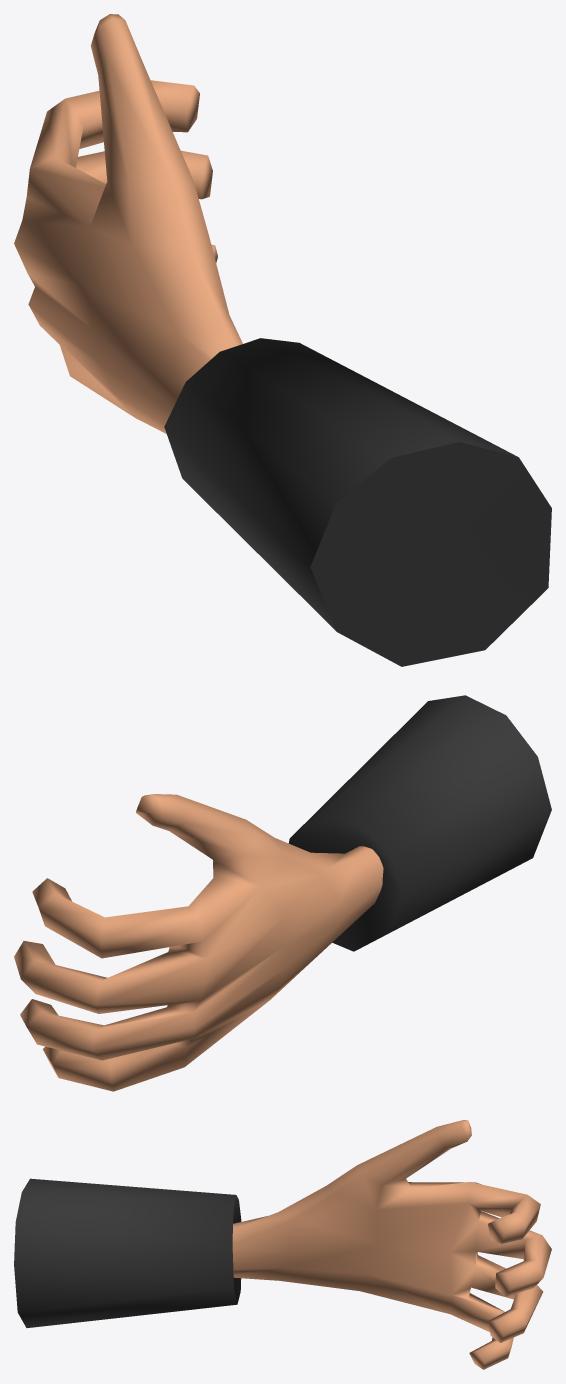
The model's file is hand_left.obj.
3 views of the same model, one above another, from view 1: azimuth 30°, elevation 25°; view 2: azimuth 150°, elevation 25°; view 3: azimuth 270°, elevation 25° (orthographic). The views are drawn at different scales.
Parts seen in each view (by area): view 1: hand_left; view 2: hand_left; view 3: hand_left.
Boxes of the visible parts, <box> form: hand_left: <box>14,14,551,666</box>; hand_left: <box>14,695,551,1091</box>; hand_left: <box>14,1120,551,1369</box>.
Size of the model in its own units: 0.111 by 0.1287 by 0.2906.
Materials: 1 (1 with a texture image).
